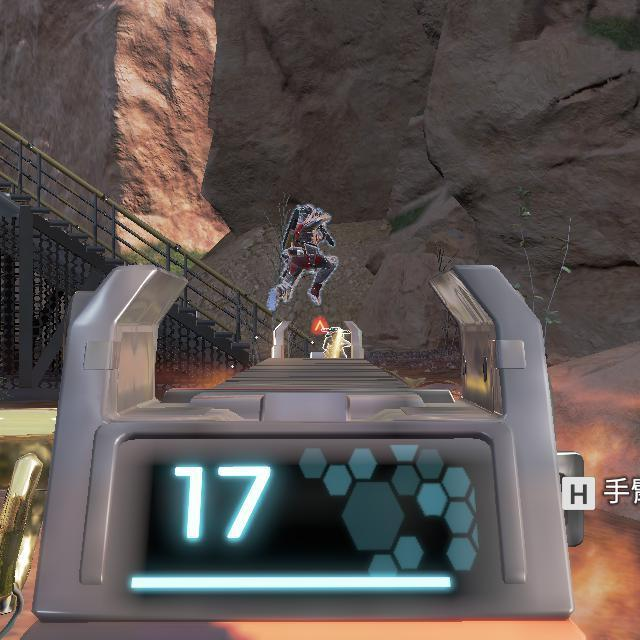avatar: (264, 203, 341, 315)
